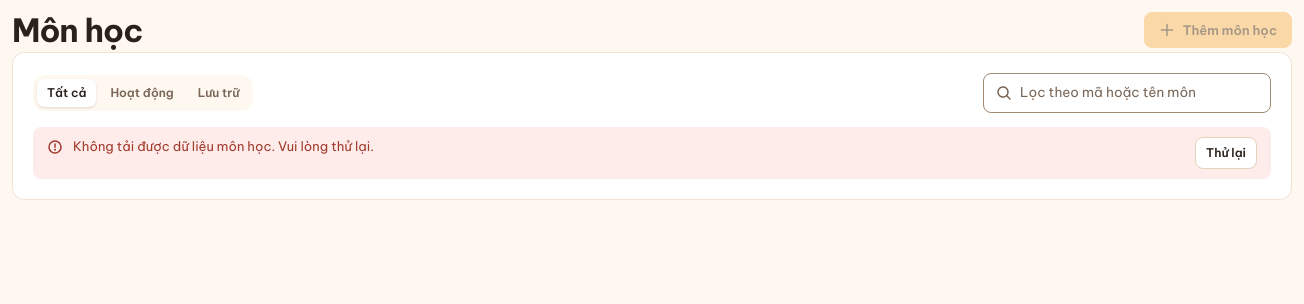
SubjectListPage › lỗi API hiện retry, không hiển thị mẫu hoặc kết quả rỗng giả
expect the message shows "Không tải được dữ liệu": met, box x1=73 y1=138 x2=374 y2=154
expect the text "Không có môn học phù hợp với bộ lọc." is not shown: met
What coordinates should you click on to do the following:
click the button "Thử lại"
I would click on:
 (1226, 153)
Its box is x1=1195 y1=137 x2=1257 y2=169.
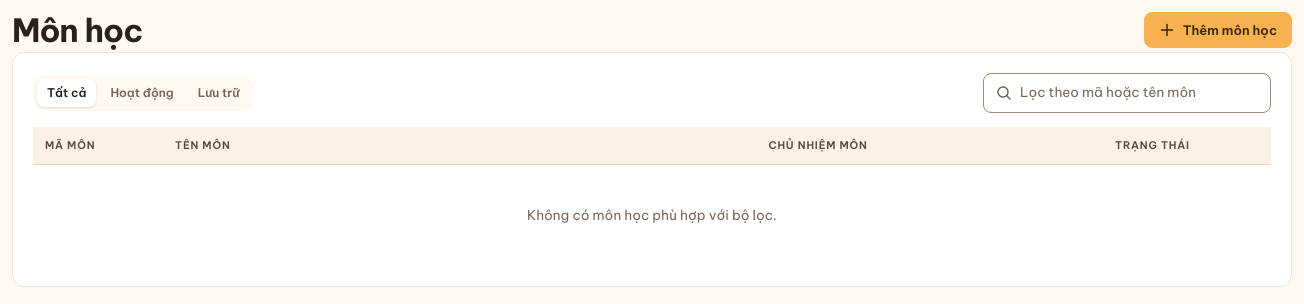
expect the text "Không có môn học phù hợp với bộ lọc." is shown: met, box x1=33 y1=165 x2=1271 y2=266
